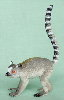cat: (3, 2, 61, 99)
